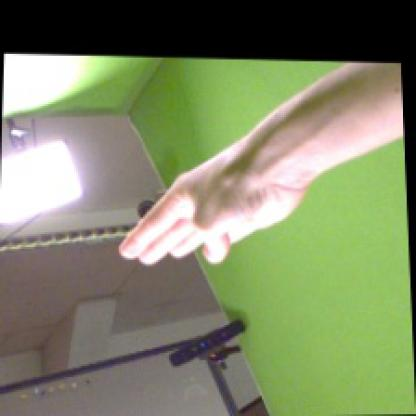Hand: (118, 141, 305, 266)
